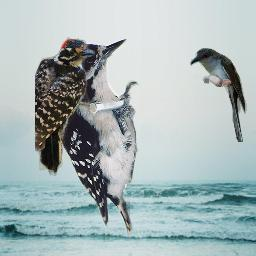Cuckoo: (190, 48, 247, 142)
Woodpecker: (54, 39, 141, 238), (35, 37, 95, 176)
